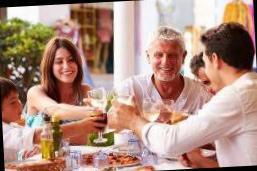Drunk: (151, 41, 180, 81), (53, 45, 77, 82)
